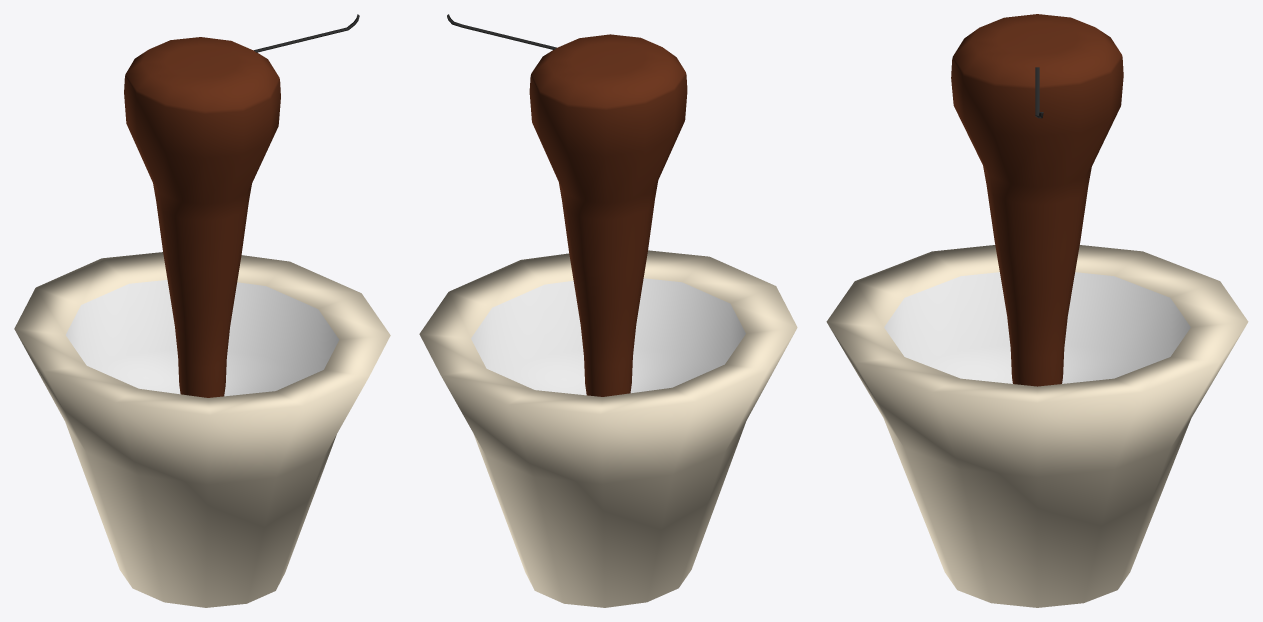
The model's file is finalLamp.fbx.
3 views of the same model, side by side, from view 1: azimuth 30°, elevation 25°; view 2: azimuth 150°, elevation 25°; view 3: azimuth 270°, elevation 25° (orthographic). The views are drawn at different scales.
Visible parts, largest first — view 1: Cylinder.001; view 2: Cylinder.001; view 3: Cylinder.001.
Boxes of the visible parts, x1,y1,x2,y2 form: Cylinder.001: [14, 37, 390, 607]; Cylinder.001: [419, 34, 797, 607]; Cylinder.001: [826, 14, 1248, 607].
Size of the model in its own units: 38.15 by 59.17 by 41.85.
